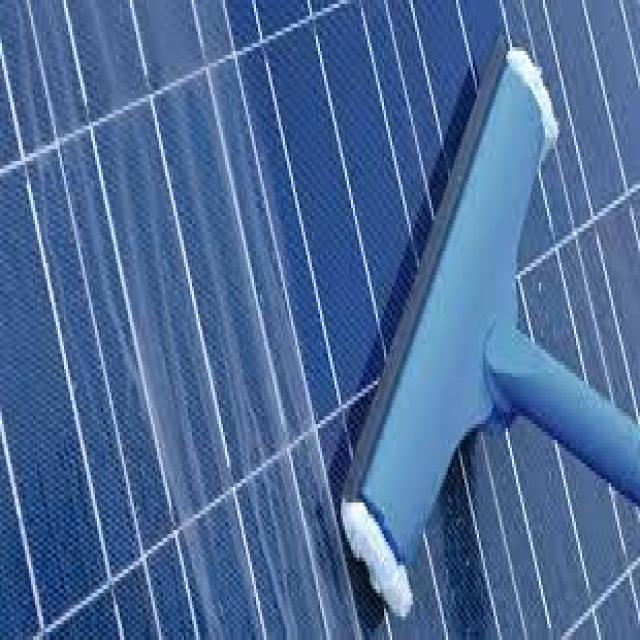clean-solar-panel: (227, 0, 640, 640)
dust-solar-panel: (0, 5, 368, 640)
